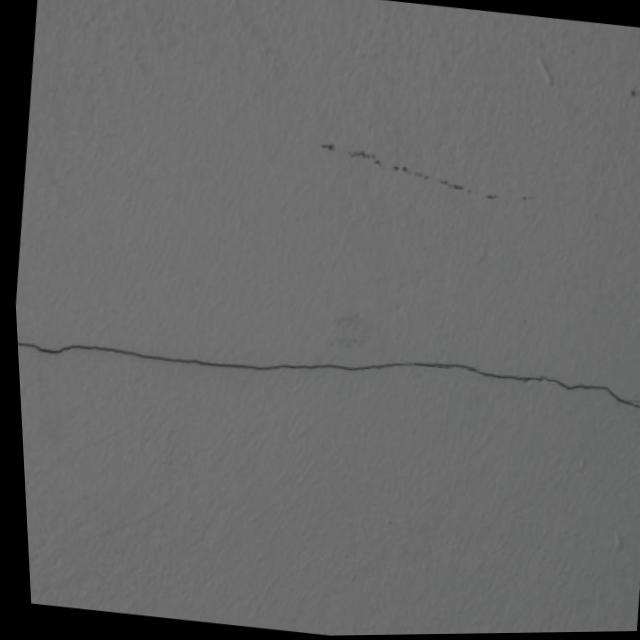Crack: (13, 301, 640, 447)
